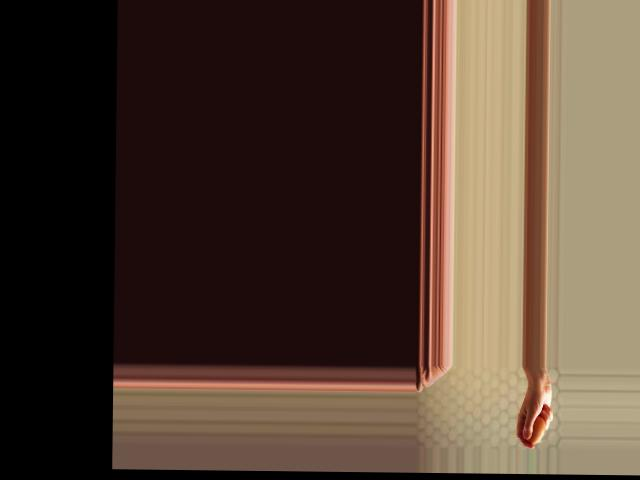egg: (524, 415, 547, 443)
